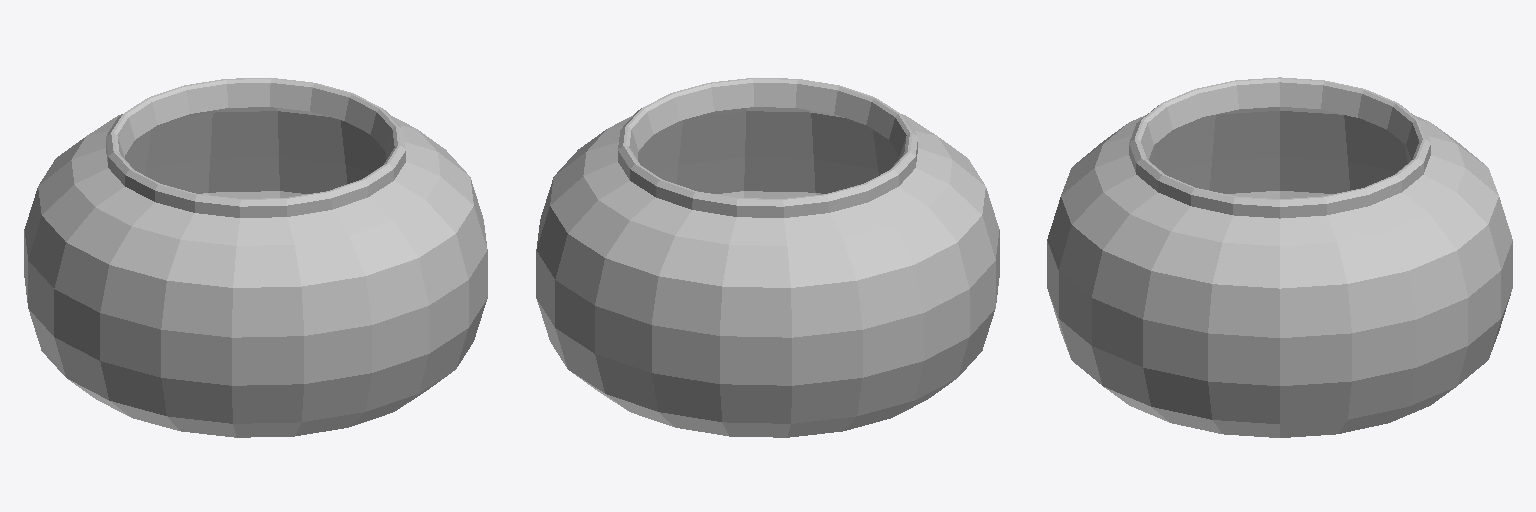
File: Fish_Bowl.obj
3 views of the same model, side by side, from view 1: azimuth 30°, elevation 25°; view 2: azimuth 150°, elevation 25°; view 3: azimuth 270°, elevation 25° (orthographic).
Visible parts, largest first — view 1: Bowl Scene, textureEditorIsolateSelectSet Bowl Scene; view 2: Bowl Scene, textureEditorIsolateSelectSet Bowl Scene; view 3: Bowl Scene, textureEditorIsolateSelectSet Bowl Scene.
Part boxes in pixels (x1,y1,x2,y2): Bowl Scene: (24,78,487,437); textureEditorIsolateSelectSet Bowl Scene: (125,111,385,198); Bowl Scene: (536,78,999,437); textureEditorIsolateSelectSet Bowl Scene: (638,111,898,198); Bowl Scene: (1047,77,1512,437); textureEditorIsolateSelectSet Bowl Scene: (1149,111,1410,198).
Size of the model in its own units: 14.3 by 7.93 by 14.3.